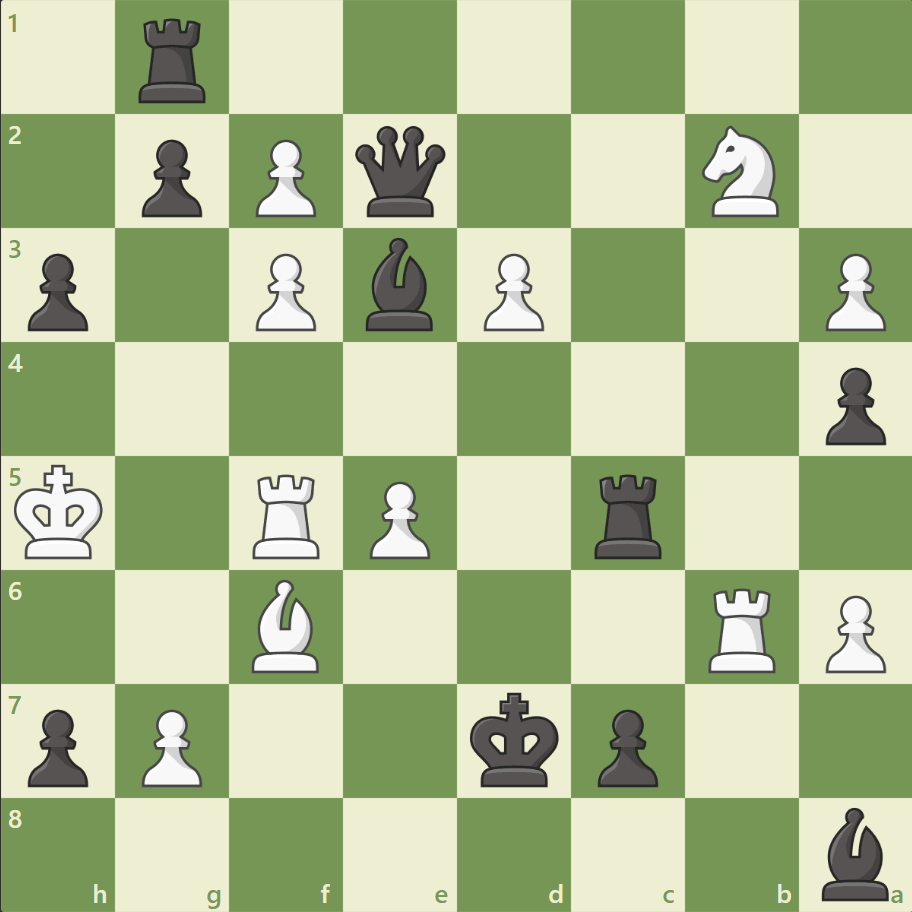B: (244, 574, 328, 676)
K: (11, 458, 111, 566)
N: (692, 121, 789, 223)
P: (133, 700, 208, 791), (474, 246, 549, 337), (247, 246, 322, 337), (247, 132, 322, 223), (815, 586, 889, 677), (361, 473, 435, 564), (815, 246, 889, 337)
R: (700, 579, 783, 676), (246, 466, 329, 563)
b: (812, 801, 896, 904), (358, 233, 442, 336)
k: (465, 685, 565, 793)
p: (20, 700, 95, 791), (20, 246, 95, 337), (133, 132, 208, 223), (588, 700, 662, 791), (815, 359, 889, 450)
q: (351, 122, 450, 222)
r: (587, 466, 670, 563), (133, 12, 215, 109)
